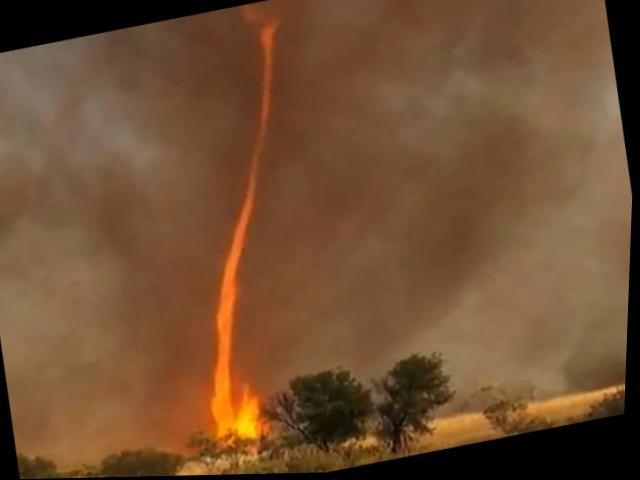fire: (140, 17, 354, 453)
